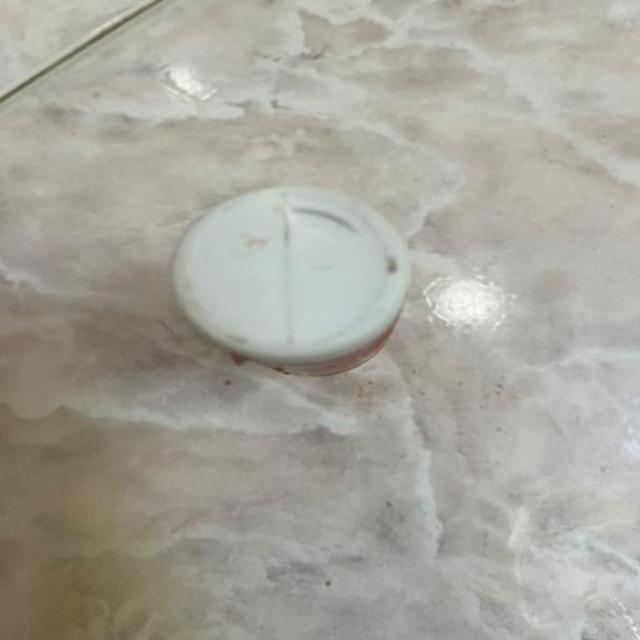HDPE: (133, 178, 523, 465)
